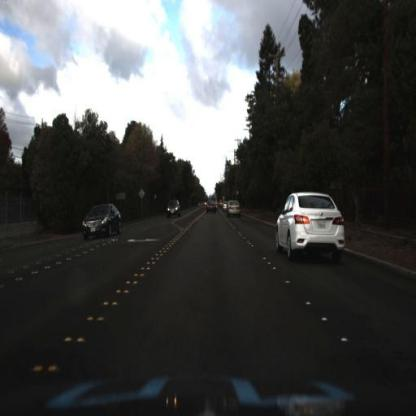car: (277, 190, 344, 271), (82, 201, 123, 238), (225, 199, 241, 222), (166, 200, 184, 217), (205, 201, 218, 217)
